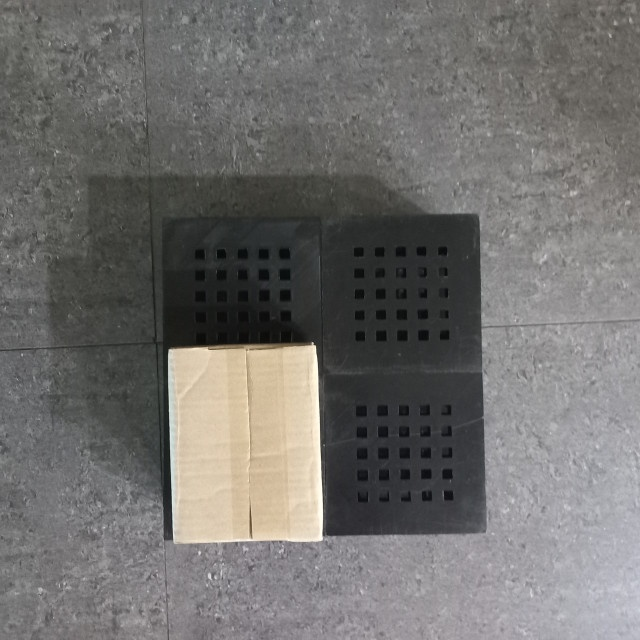box: (167, 340, 323, 545)
pallet: (154, 204, 486, 544)
